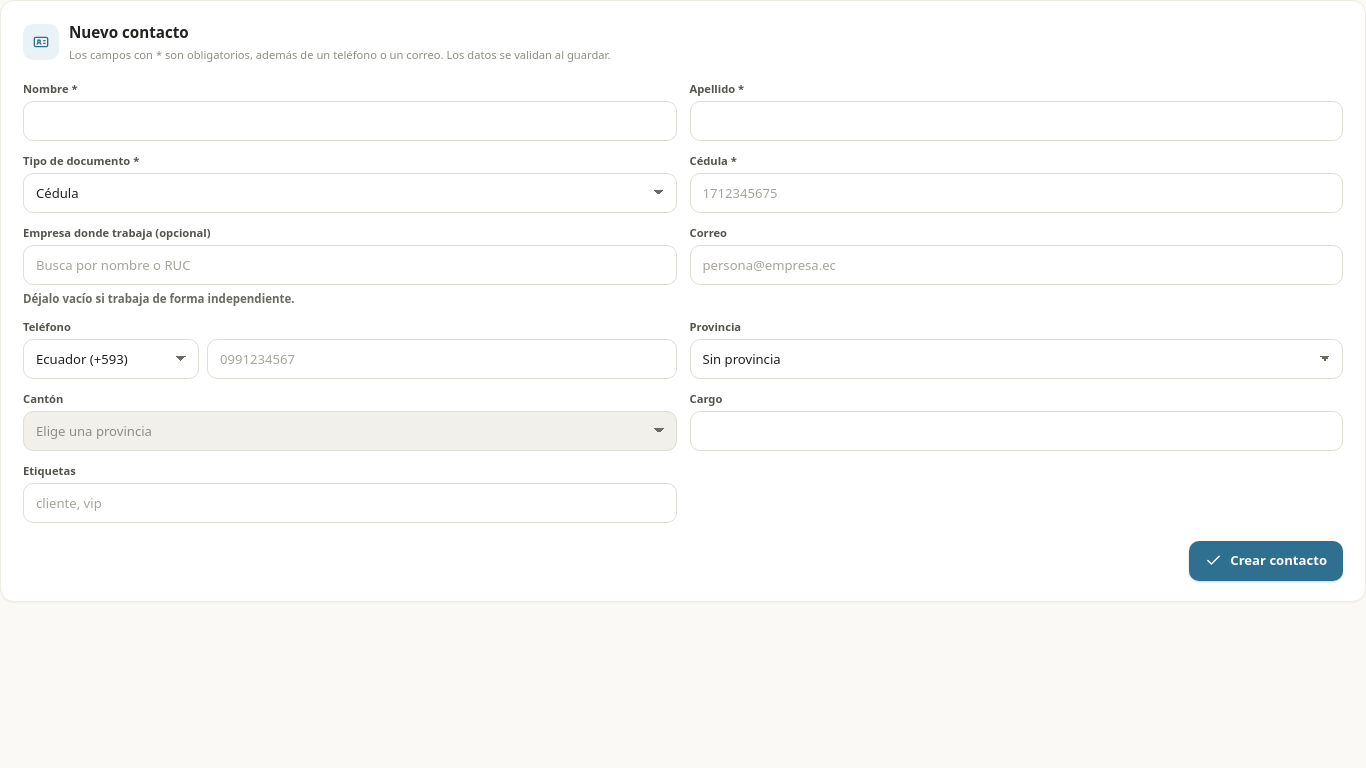
Test case: el documento es obligatorio: arranca en Cédula y el número toma la etiqueta de su tipo
This screenshot has width=1366, height=768.
expect the text "Los campos con * son obligatorios, además de un teléfono o un correo. Los datos se validan al guardar." is shown: met, box [69, 47, 610, 62]
Select "Pasaporte" in the dropdown labelled "Tipo de documento" at (350, 193), box [23, 173, 676, 213]
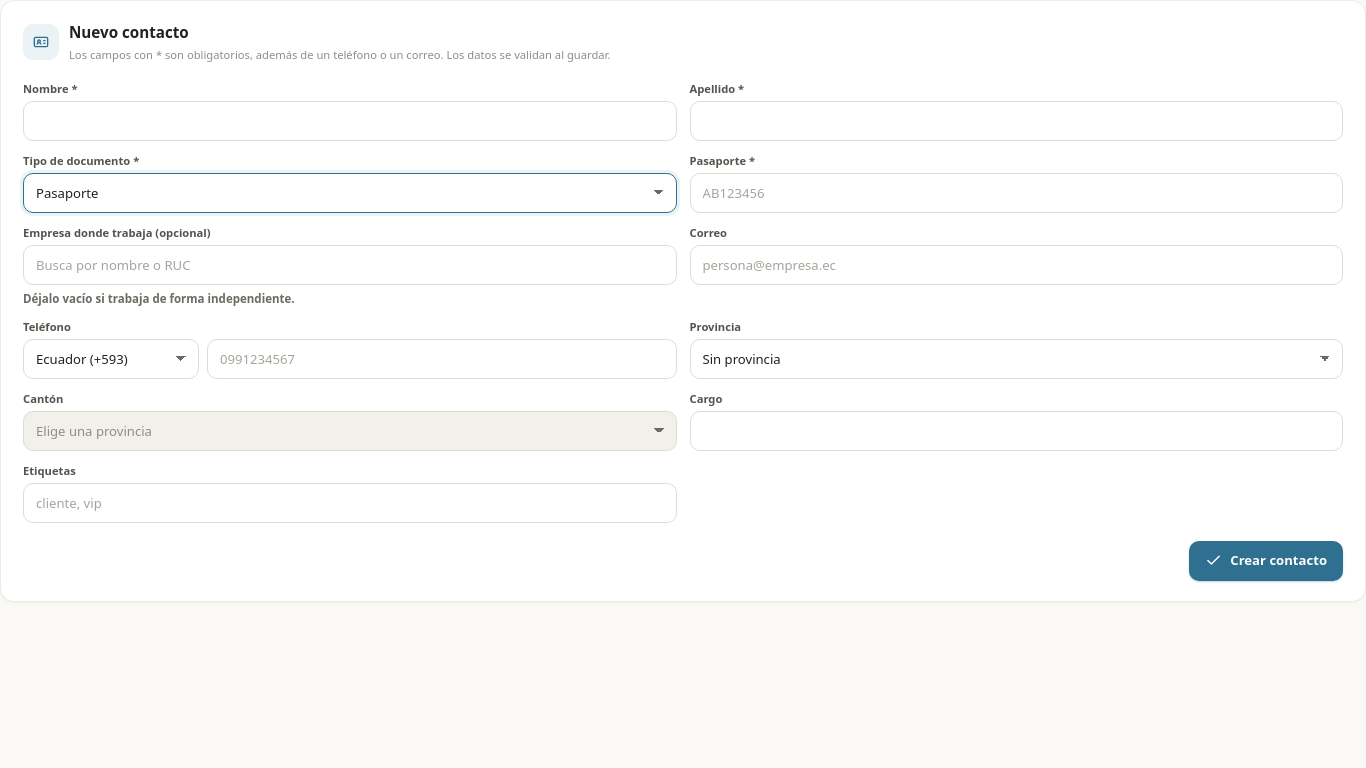
expect the label labelled "Cédula" is gone: met
